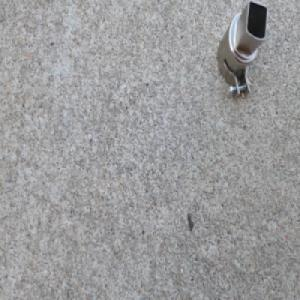MetalPart: (216, 0, 268, 102)
